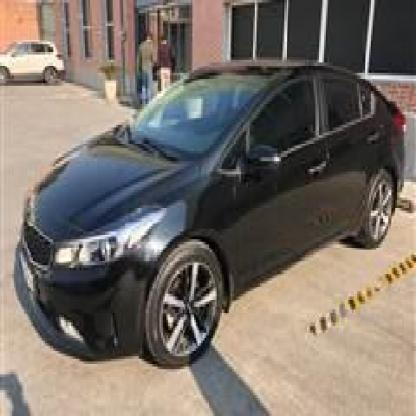Car: (23, 60, 409, 351), (0, 36, 76, 83)
